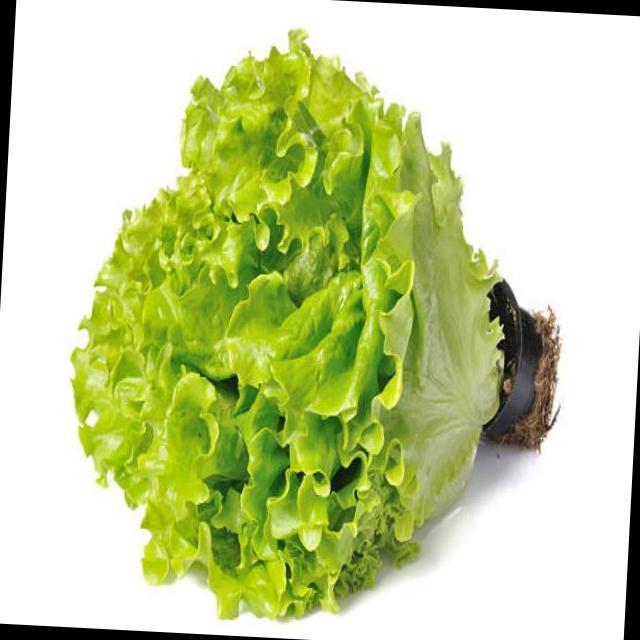Lettuce-Ready-to-Harvest: (74, 34, 503, 616)
